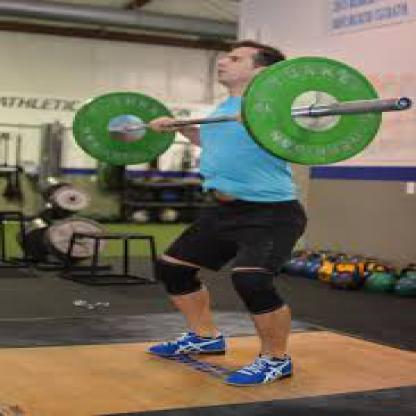Barbell: (232, 46, 397, 172)
